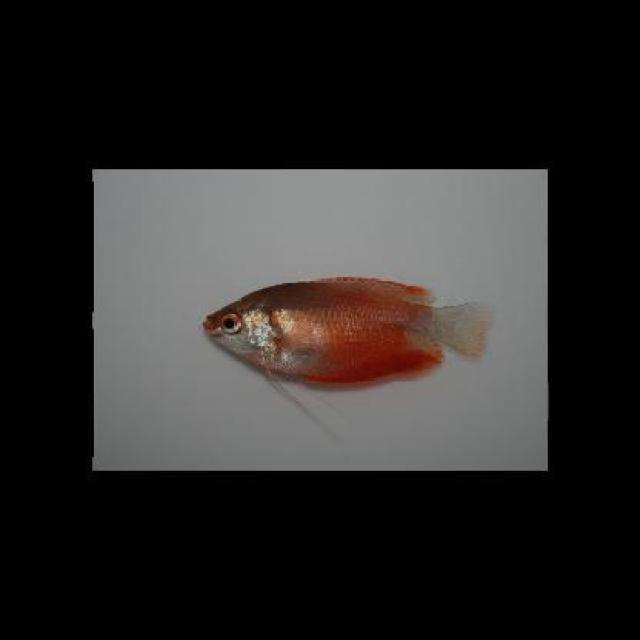Gourami: (202, 270, 493, 392)
